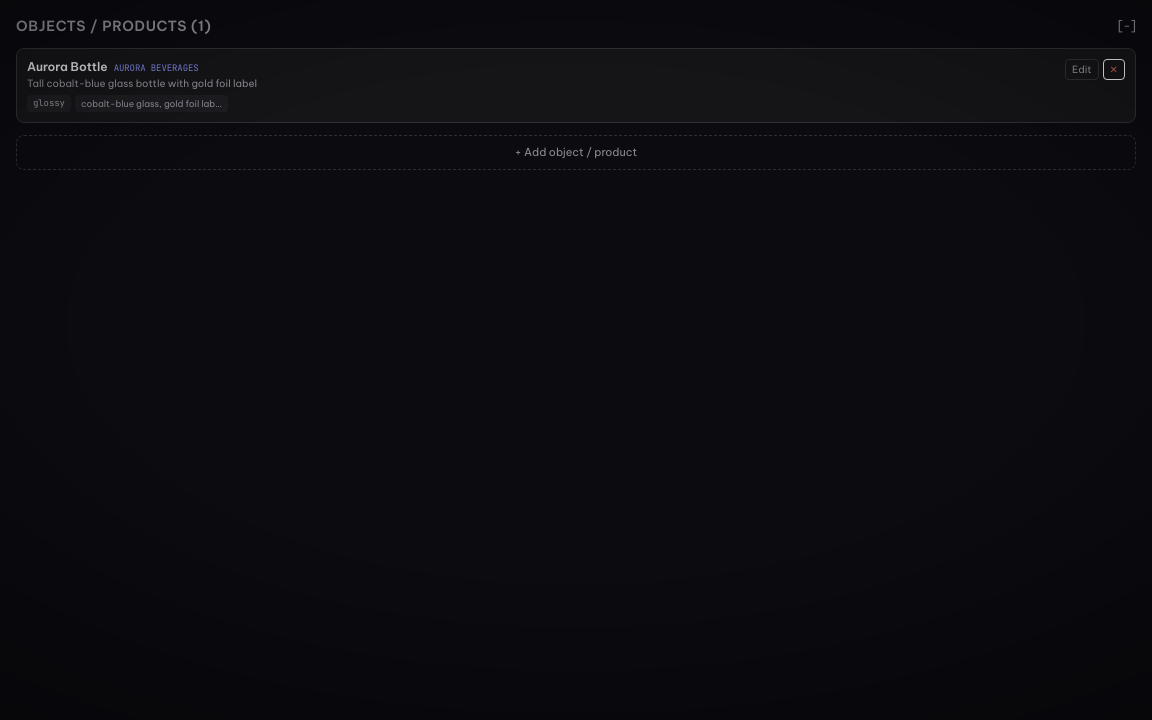
ObjectPanel scale_reference is editable and wired › renders the stored scale_reference as an editable field
The width and height of the screenshot is (1152, 720).
Click the button "Edit" at (1082, 70), box 1065,59 -> 1099,80
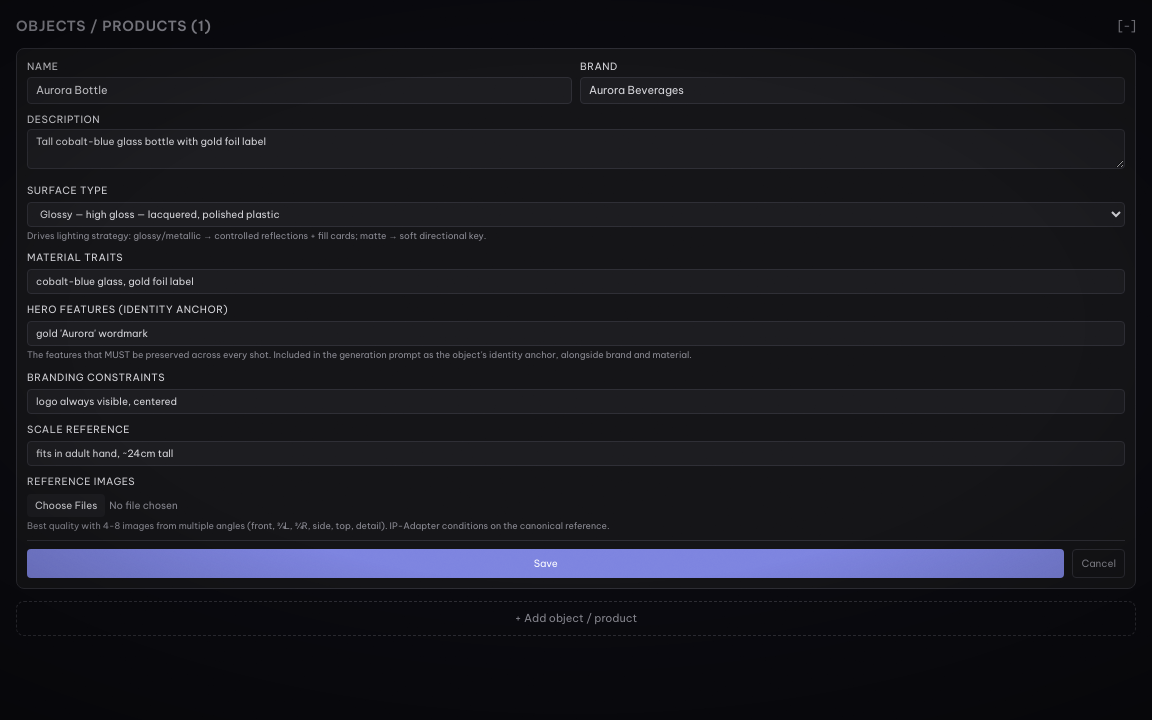
Result: the field with placeholder "fits in adult hand, ~24cm tall, hand-sized" below "Scale Reference" holds "fits in adult hand, ~24cm tall" at 27,440 -> 1125,466
